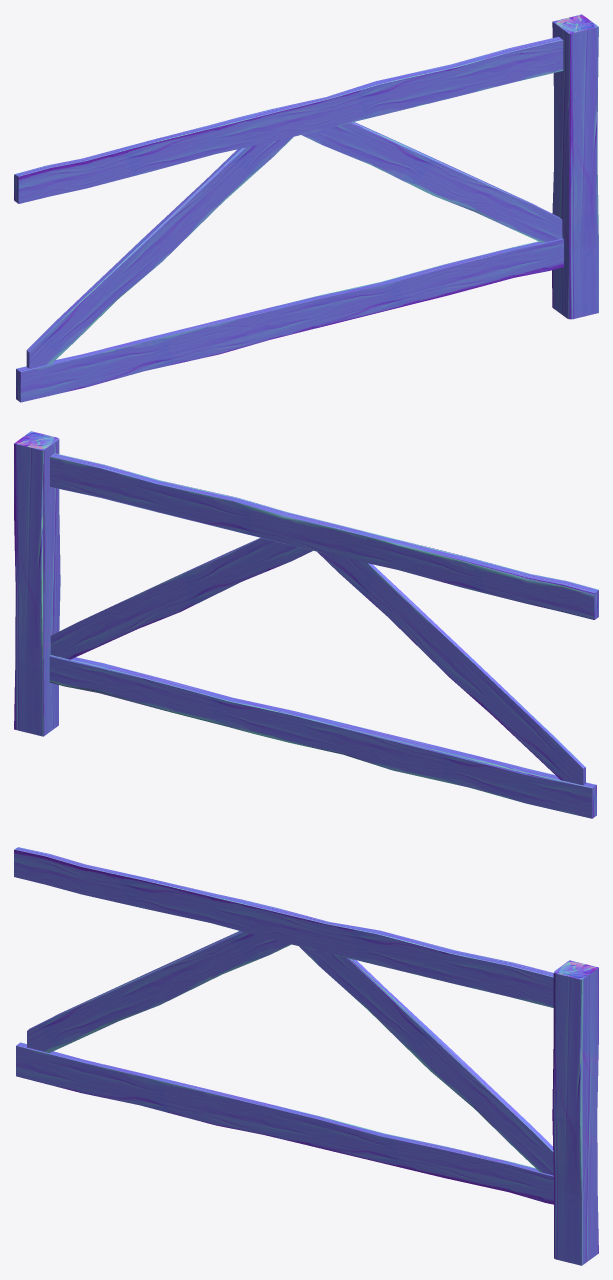
Rendered from SM_WoodenFence_B_02.fbx.
3 renders of one model, top to bottom at view 1: azimuth 30°, elevation 25°; view 2: azimuth 150°, elevation 25°; view 3: azimuth 330°, elevation 25°, orthographic.
Parts seen in each view (by area): view 1: SM_WoodenFence_B_02_LOD0; view 2: SM_WoodenFence_B_02_LOD0; view 3: SM_WoodenFence_B_02_LOD0.
Boxes of the visible parts, <box> form: SM_WoodenFence_B_02_LOD0: <box>14,14,598,402</box>; SM_WoodenFence_B_02_LOD0: <box>14,431,598,818</box>; SM_WoodenFence_B_02_LOD0: <box>14,847,598,1265</box>.
Size of the model in its own units: 257 by 122 by 13.56.
